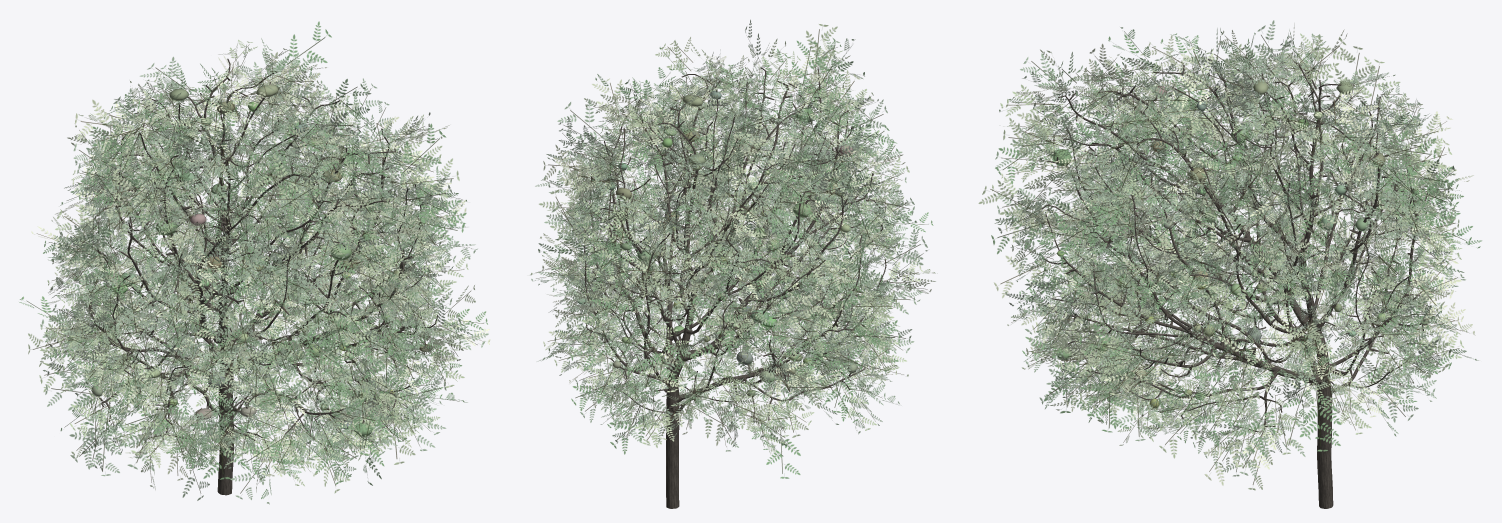
Rendered from tree_49_broadleaf.glb.
The picture shows the model from 3 angles, left to right: view 1: azimuth 30°, elevation 25°; view 2: azimuth 150°, elevation 25°; view 3: azimuth 270°, elevation 25°; orthographic projection. The views are drawn at different scales.
Visible parts, largest first — view 1: tree_49_broadleaf.leaves, tree_49_broadleaf.trunk_branches, tree_49_broadleaf.foliage_volume; view 2: tree_49_broadleaf.leaves, tree_49_broadleaf.trunk_branches, tree_49_broadleaf.foliage_volume; view 3: tree_49_broadleaf.leaves, tree_49_broadleaf.trunk_branches, tree_49_broadleaf.foliage_volume.
Part boxes in pixels (x1=…): tree_49_broadleaf.leaves: x1=19, y1=21, x2=490, y2=504; tree_49_broadleaf.trunk_branches: x1=76, y1=58, x2=437, y2=495; tree_49_broadleaf.foliage_volume: x1=75, y1=84, x2=432, y2=436; tree_49_broadleaf.leaves: x1=530, y1=19, x2=937, y2=478; tree_49_broadleaf.trunk_branches: x1=579, y1=67, x2=886, y2=508; tree_49_broadleaf.foliage_volume: x1=577, y1=91, x2=860, y2=397; tree_49_broadleaf.leaves: x1=978, y1=20, x2=1481, y2=490; tree_49_broadleaf.trunk_branches: x1=1041, y1=58, x2=1427, y2=508; tree_49_broadleaf.foliage_volume: x1=1052, y1=80, x2=1428, y2=408.
Size of the model in its own units: 10.89 by 12.22 by 12.33.
3 materials, 2 textured.
